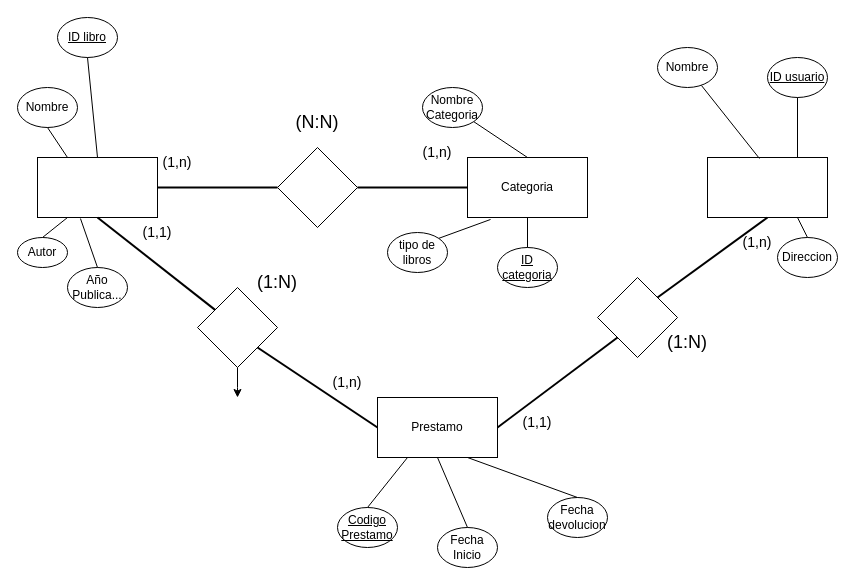
This 855x585 diagram has some shape labels left out. Each missing label, with the box of its shape:
Libro: (36, 156, 158, 218)
Pertenece: (276, 146, 358, 228)
Prestado: (196, 286, 278, 368)
Realizar: (596, 276, 678, 358)
Usuario: (706, 156, 828, 218)
